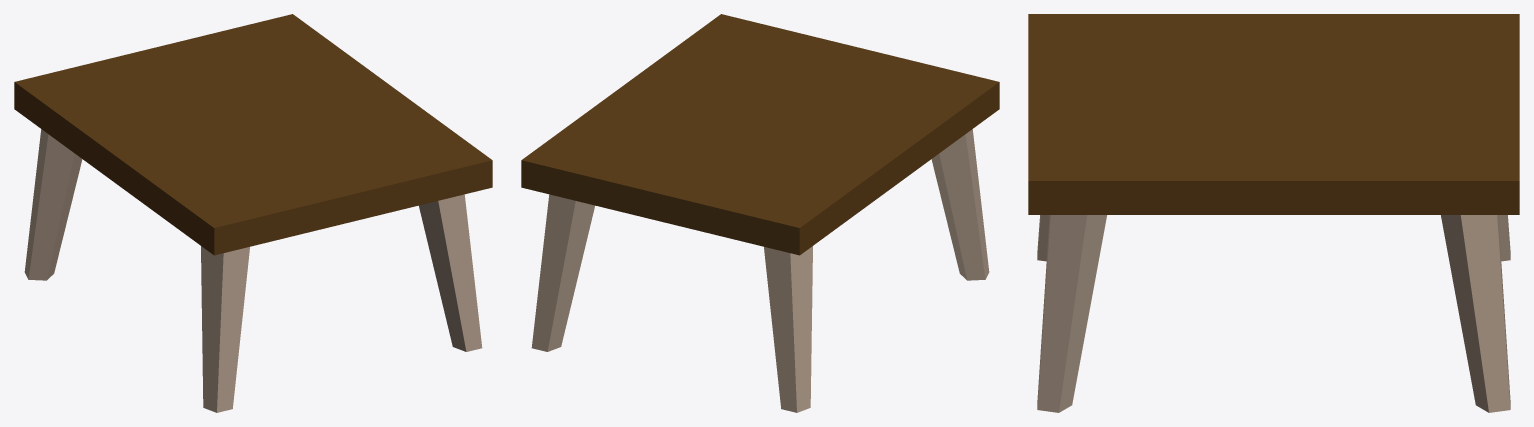
3 renders of one model, left to right at view 1: azimuth 30°, elevation 25°; view 2: azimuth 150°, elevation 25°; view 3: azimuth 270°, elevation 25°, orthographic. The views are drawn at different scales.
Visible parts, largest first — view 1: Walec; view 2: Walec; view 3: Walec.
Boxes of the visible parts, x1,y1,x2,y2 form: Walec: (14,14,492,412); Walec: (521,14,999,412); Walec: (1028,14,1519,412).
Size of the model in its own units: 275 by 179 by 342.
1 material, 1 textured.
